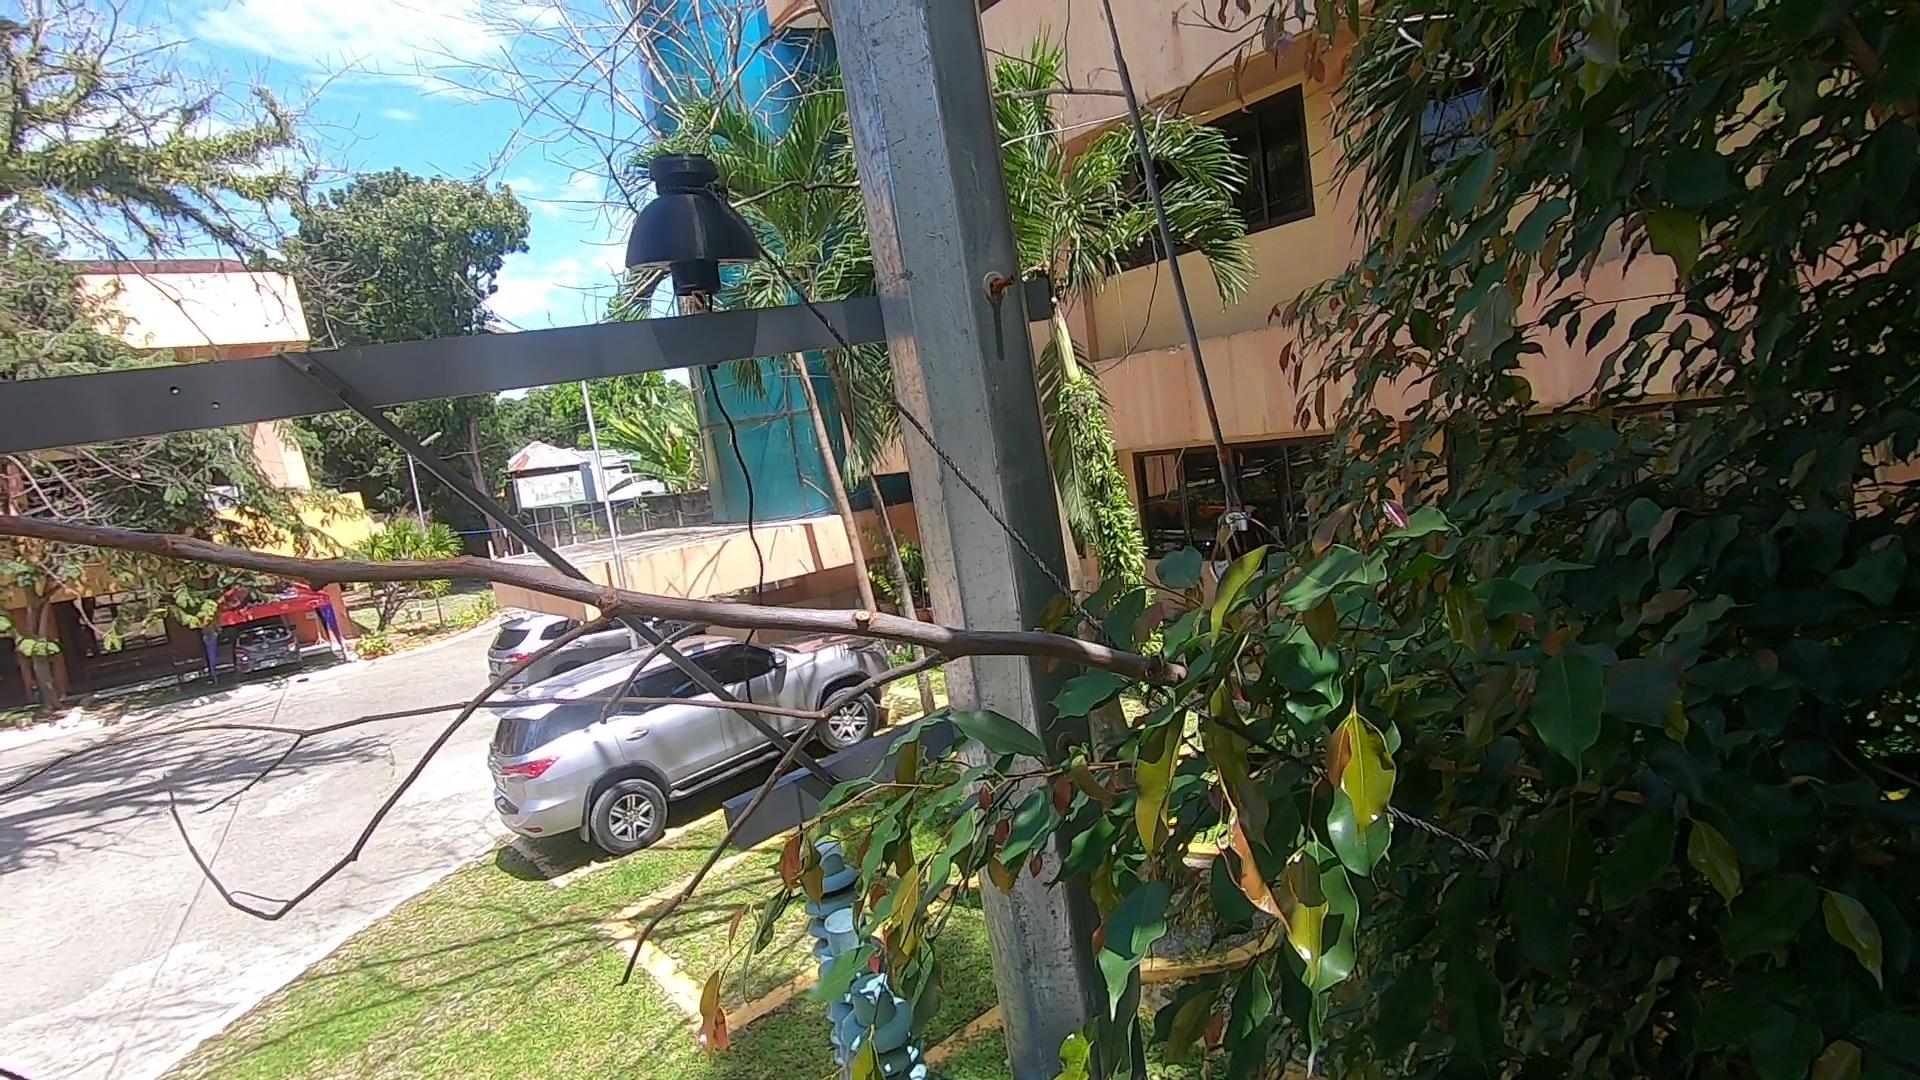tree branch: (1, 497, 1294, 1000)
